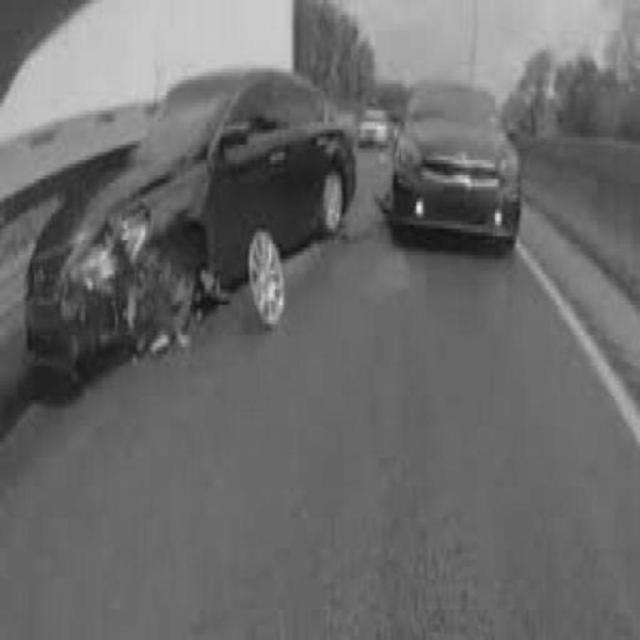accident: (27, 74, 361, 372)
vehicle: (388, 86, 526, 252)
